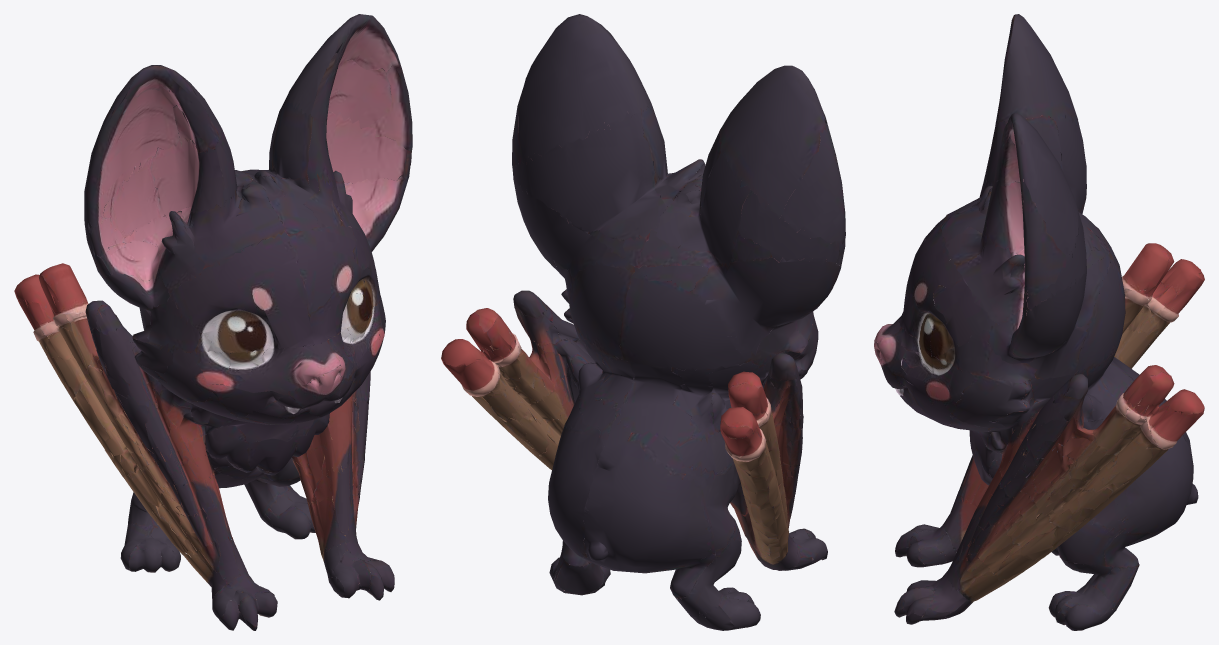
3 views of the same model, side by side, from view 1: azimuth 30°, elevation 25°; view 2: azimuth 150°, elevation 25°; view 3: azimuth 270°, elevation 25° (orthographic). The views are drawn at different scales.
Parts seen in each view (by area): view 1: Mesh_0; view 2: Mesh_0; view 3: Mesh_0.
Boxes of the visible parts, left/top/right/bottom form: Mesh_0: left=14, top=14, right=412, bottom=630; Mesh_0: left=441, top=14, right=845, bottom=630; Mesh_0: left=874, top=14, right=1204, bottom=630.
Size of the model in its own units: 1.22 by 1.9 by 1.09.
Materials: 1 (1 with a texture image).
